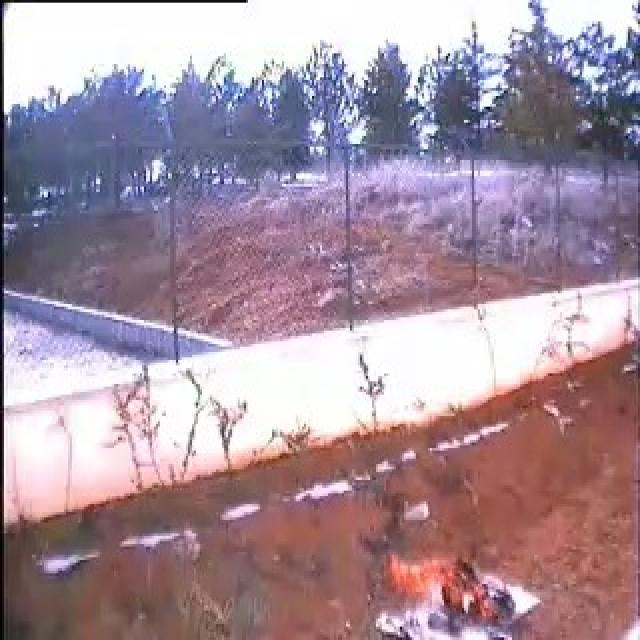fire: (388, 561, 498, 619)
